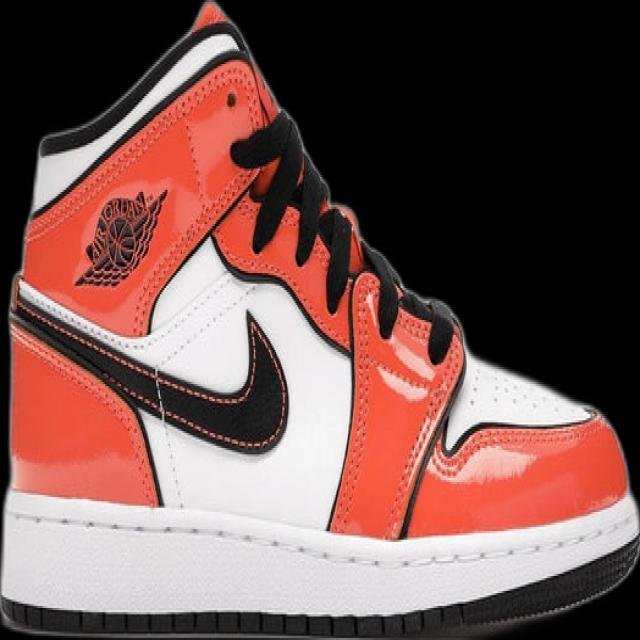J1_InsoleChar: (0, 0, 639, 639)
J1_ShoeLogo: (72, 186, 168, 288)
J1_StitchPattern: (1, 489, 638, 636), (7, 271, 290, 455), (327, 270, 465, 539), (35, 21, 247, 159), (227, 109, 364, 313), (1, 598, 460, 638)
